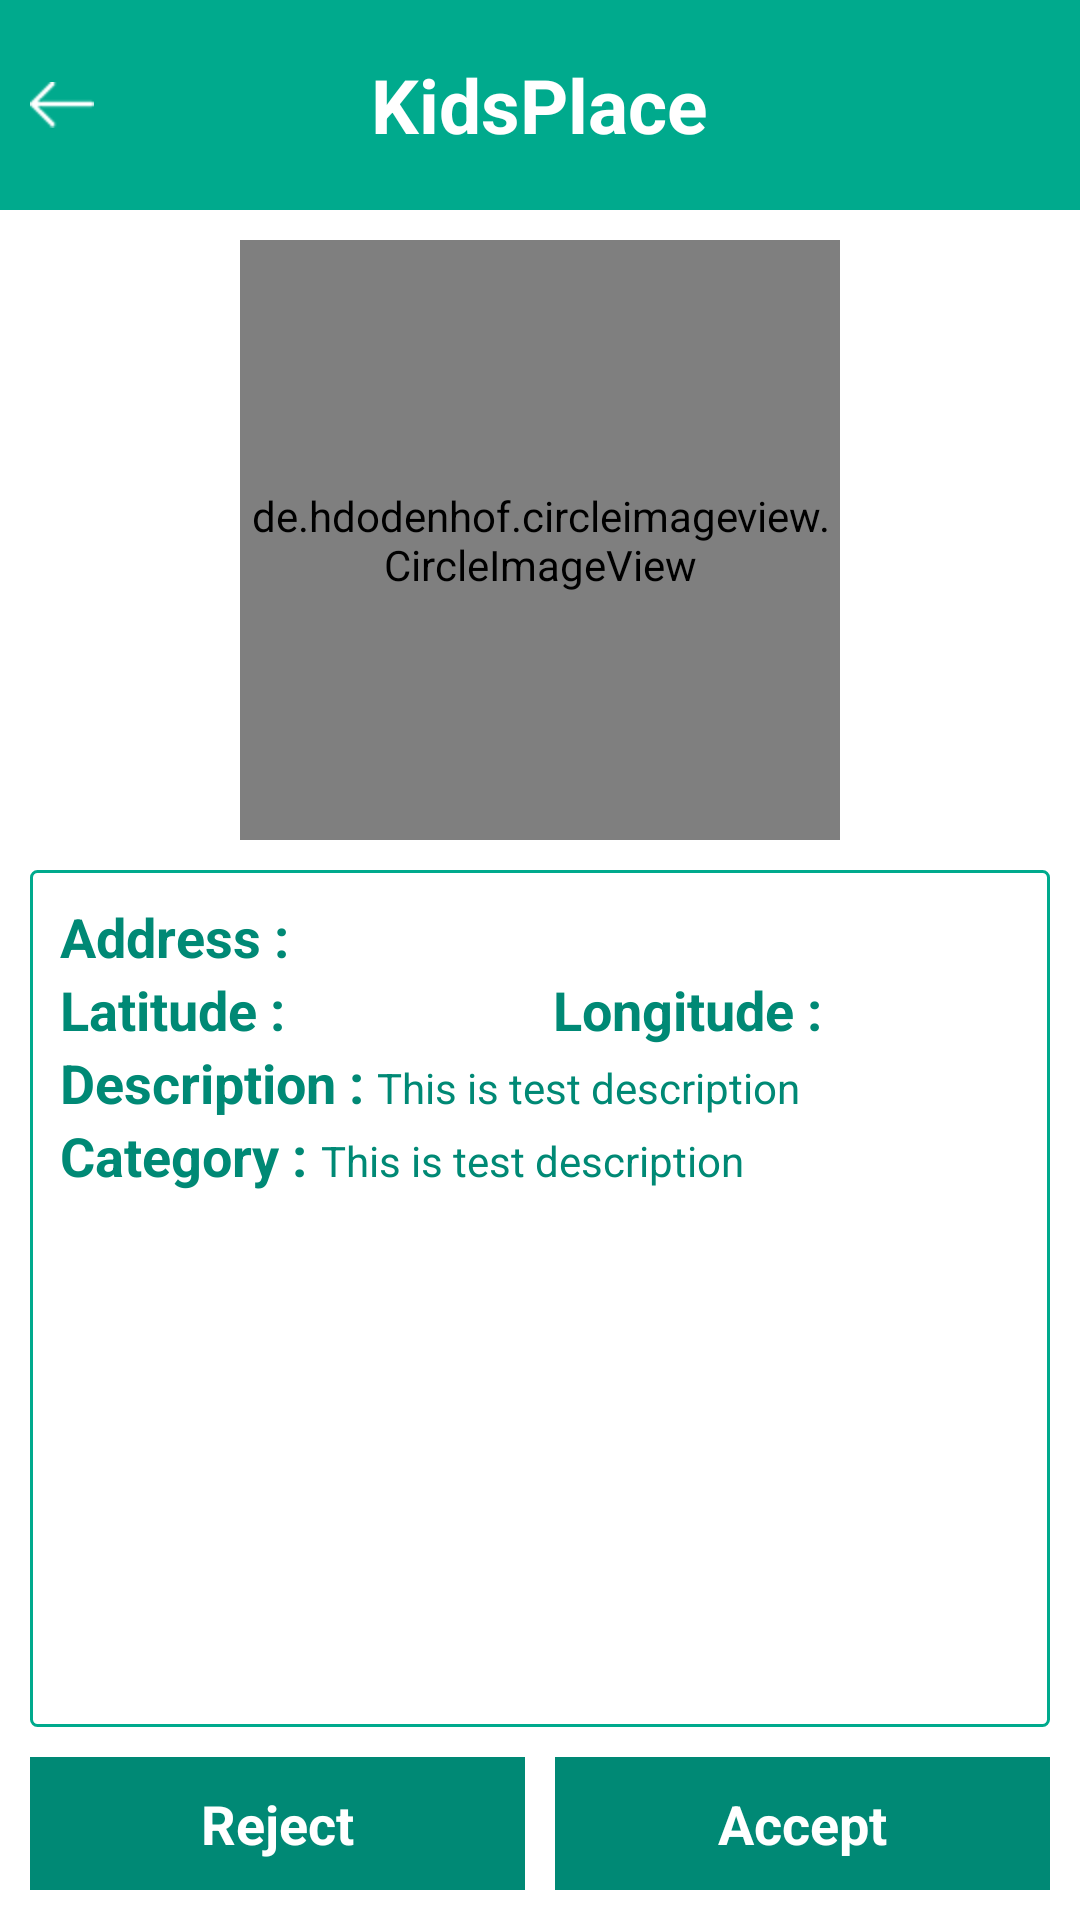

Icons on this 1080px x 1920px Android screen, each with its box as (x1, y1, x2, y2):
back: (30, 82, 94, 128)
